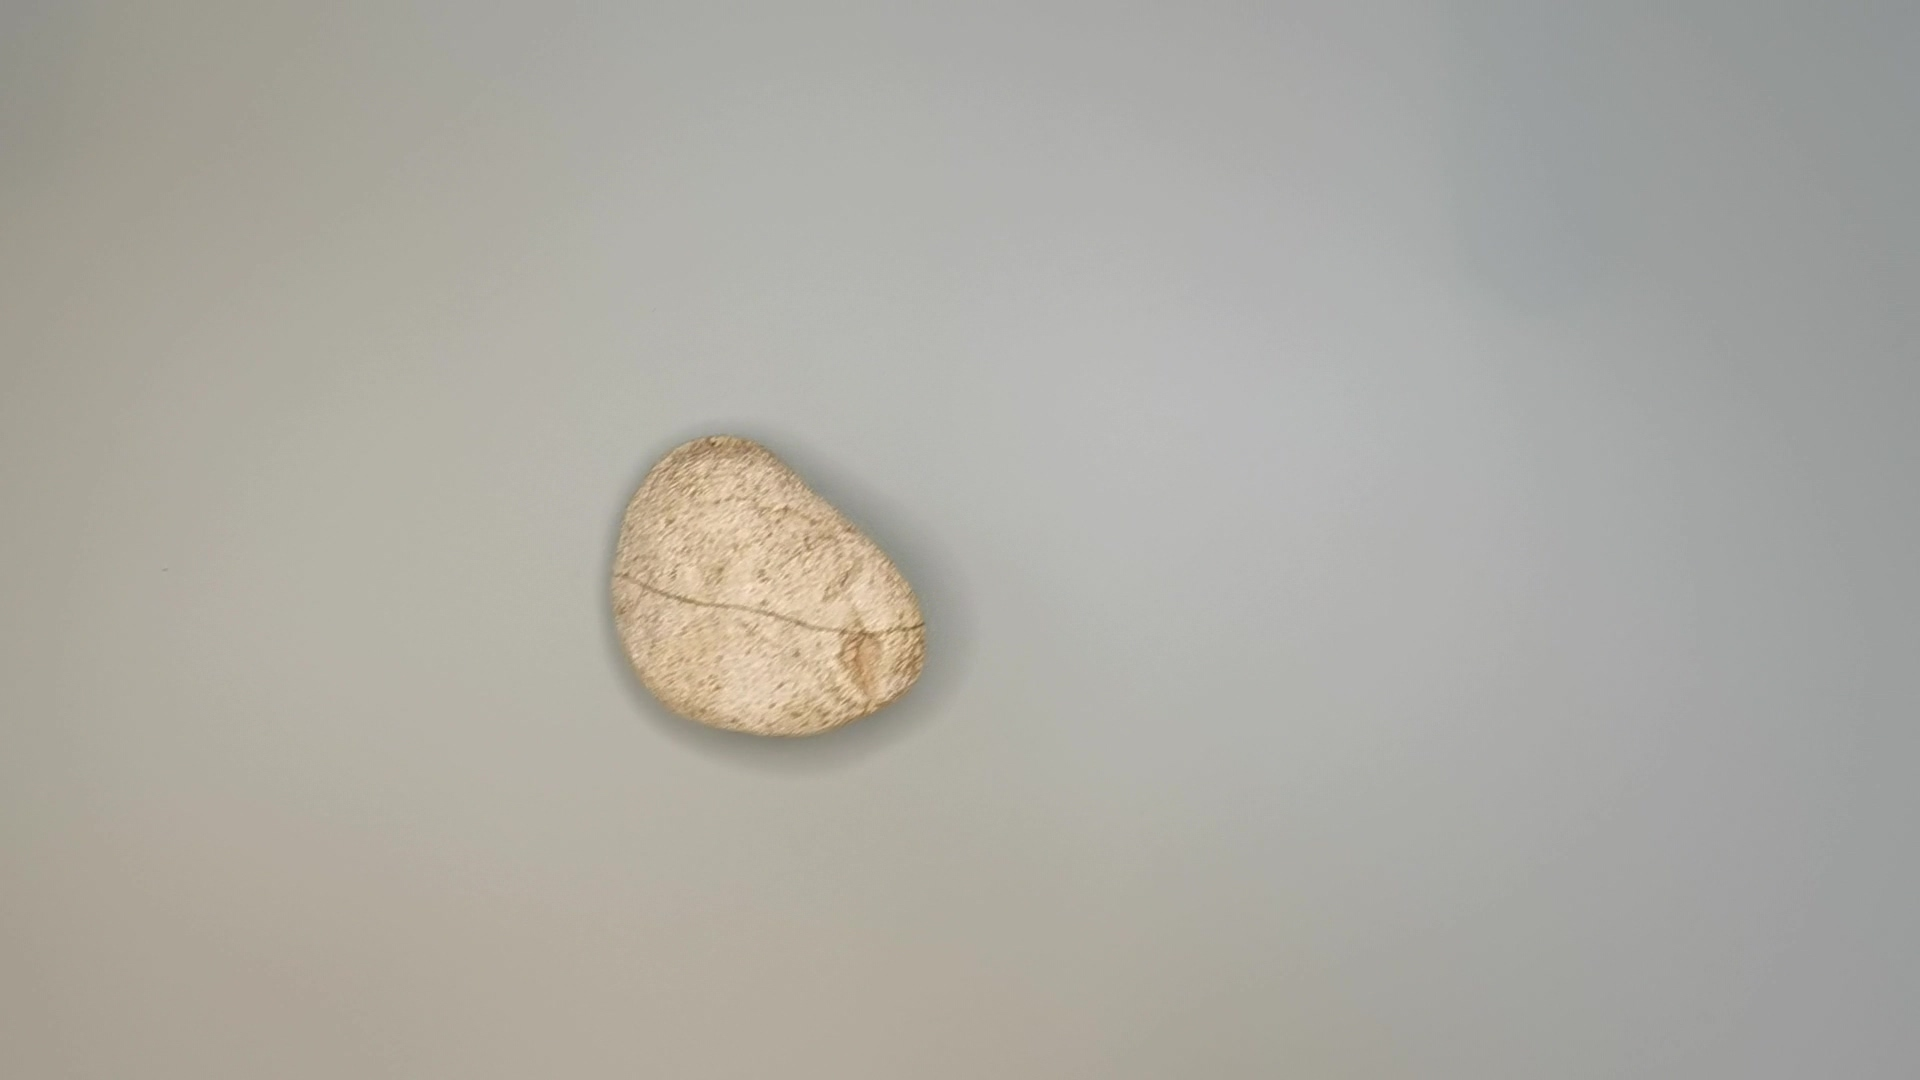ceramic: (599, 433, 942, 746)
